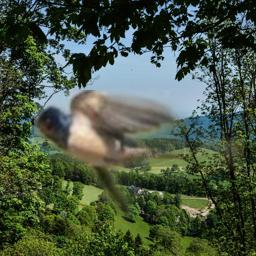Swallow: (34, 90, 244, 220)
